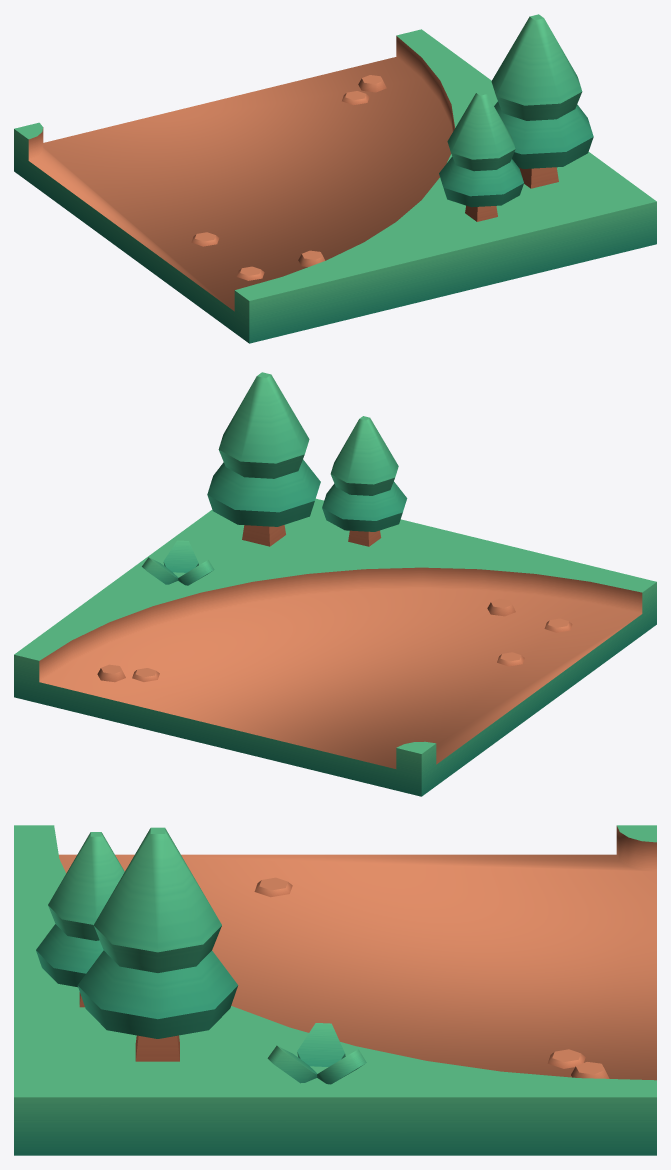
The model's file is tile-wide-corner.fbx.
The picture shows the model from 3 angles, top to bottom: view 1: azimuth 30°, elevation 25°; view 2: azimuth 150°, elevation 25°; view 3: azimuth 270°, elevation 25°; orthographic projection. The views are drawn at different scales.
Parts seen in each view (by area): view 1: tile-wide-corner; view 2: tile-wide-corner; view 3: tile-wide-corner.
Boxes of the visible parts, <box> form: tile-wide-corner: <box>14,14,656,343</box>; tile-wide-corner: <box>14,372,656,796</box>; tile-wide-corner: <box>14,825,656,1155</box>.
Bounding box in the file's own units: 200 × 96 × 200.
